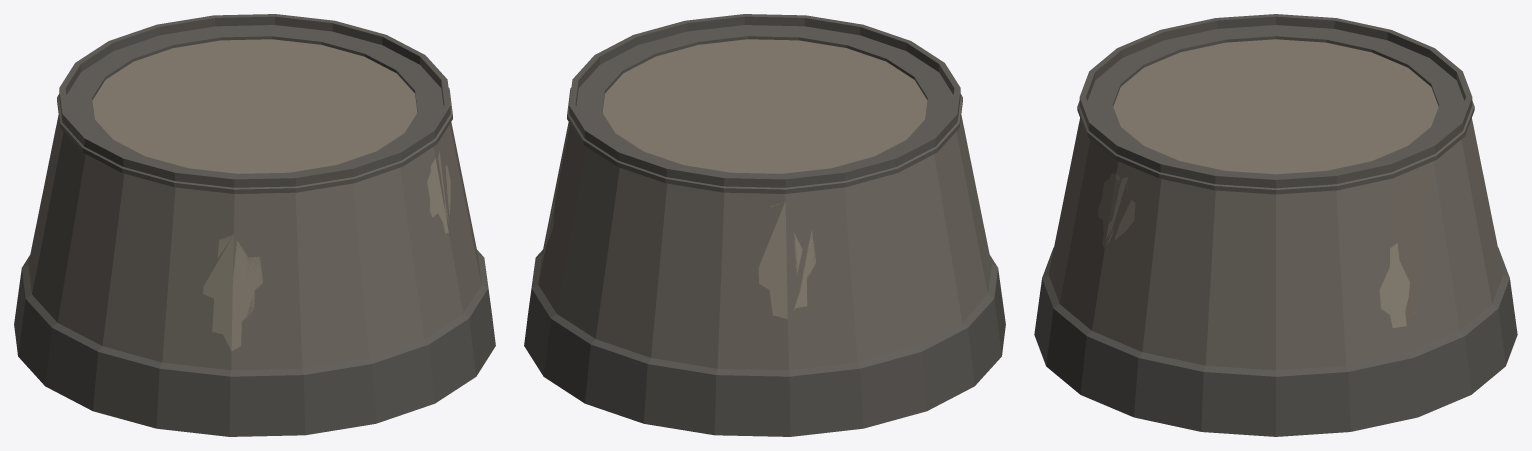
Rendered from SM_Bld_Fort_Base_Circle_04.glb.
3 views of the same model, side by side, from view 1: azimuth 30°, elevation 25°; view 2: azimuth 150°, elevation 25°; view 3: azimuth 270°, elevation 25° (orthographic).
Parts seen in each view (by area): view 1: SM_Bld_Fort_Base_Circle_04_part00; view 2: SM_Bld_Fort_Base_Circle_04_part00; view 3: SM_Bld_Fort_Base_Circle_04_part00.
Boxes of the visible parts, bbox=[...] form: SM_Bld_Fort_Base_Circle_04_part00: bbox=[14, 14, 495, 436]; SM_Bld_Fort_Base_Circle_04_part00: bbox=[524, 14, 1005, 436]; SM_Bld_Fort_Base_Circle_04_part00: bbox=[1034, 14, 1517, 436].
Bounding box in the file's own units: 19.41 × 10.54 × 19.41.
1 material, 1 textured.
